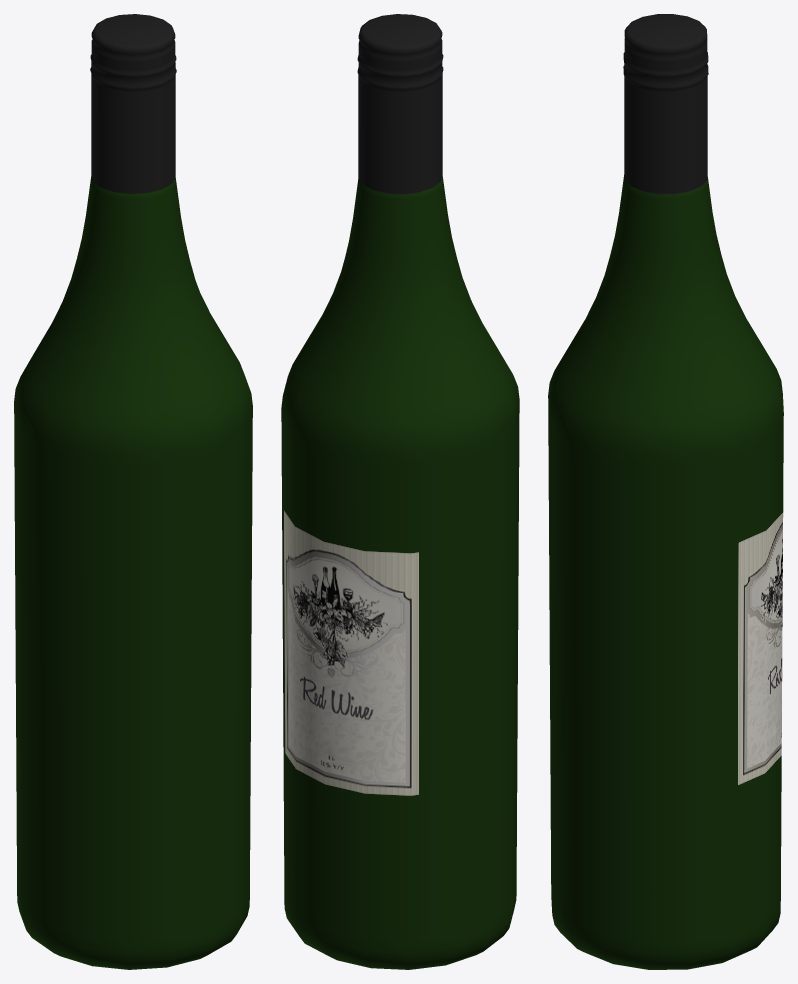
Rendered from Wine bottle 2.fbx.
3 renders of one model, left to right at view 1: azimuth 30°, elevation 25°; view 2: azimuth 150°, elevation 25°; view 3: azimuth 270°, elevation 25°, orthographic.
Parts seen in each view (by area): view 1: wine bottle 2; view 2: wine bottle 2; view 3: wine bottle 2.
Part boxes in pixels (bbox=[...]): wine bottle 2: bbox=[14, 14, 252, 969]; wine bottle 2: bbox=[281, 14, 519, 969]; wine bottle 2: bbox=[548, 14, 783, 969].
Size of the model in its own units: 7.85 by 33.11 by 7.85.
Materials: 1 (1 with a texture image).
